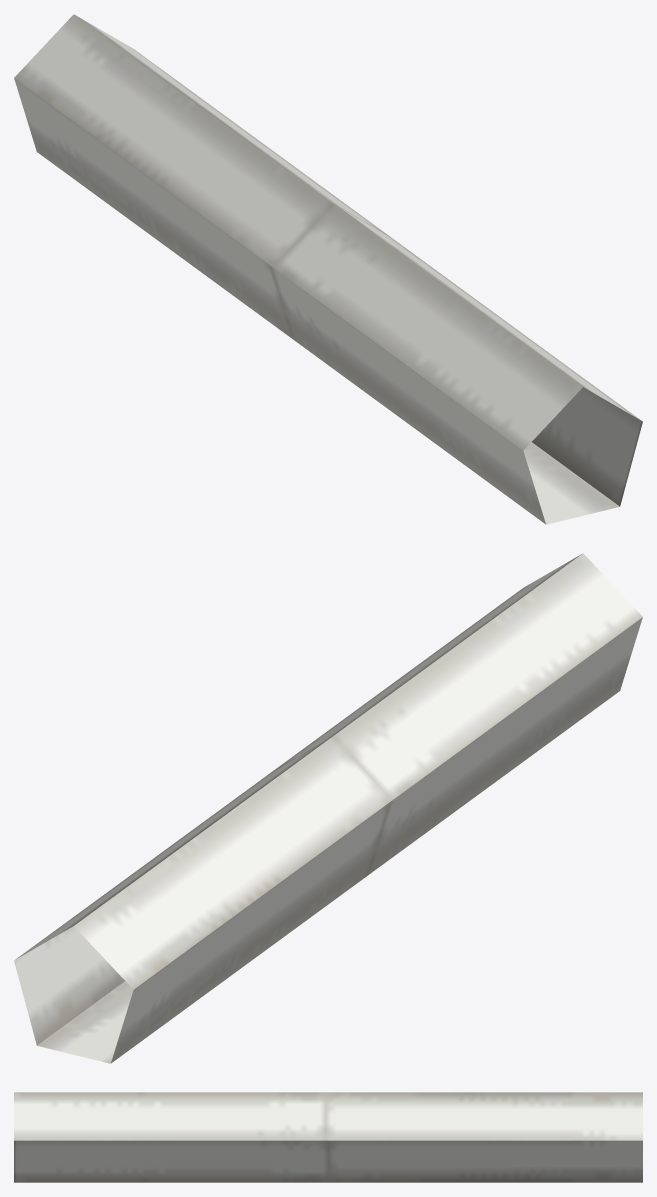
Rendered from horizontal_pipe.fbx.
3 renders of one model, top to bottom at view 1: azimuth 30°, elevation 25°; view 2: azimuth 150°, elevation 25°; view 3: azimuth 270°, elevation 25°, orthographic. The views are drawn at different scales.
Visible parts, largest first — view 1: Cylinder.001; view 2: Cylinder.001; view 3: Cylinder.001.
Part boxes in pixels (x1,y1,x2,y2): Cylinder.001: [14, 14, 642, 524]; Cylinder.001: [14, 553, 642, 1063]; Cylinder.001: [14, 1092, 642, 1182].
Size of the model in its own units: 0.4 by 2.95 by 0.4115.
Materials: 1 (1 with a texture image).
